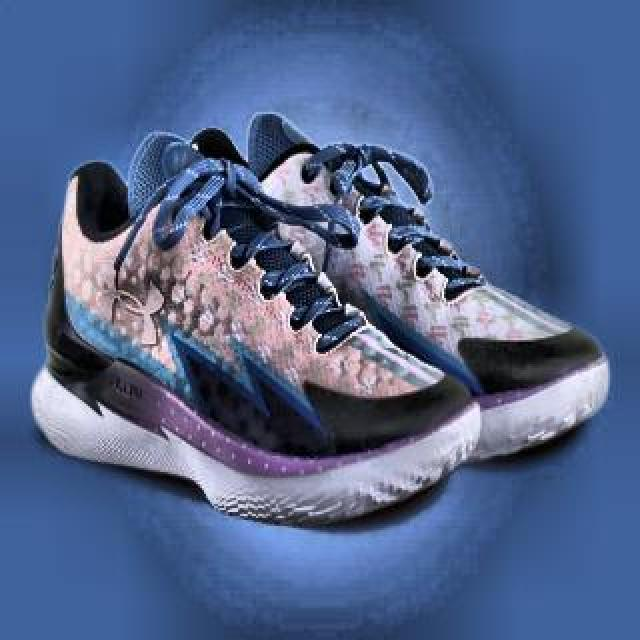shoes: (33, 129, 481, 525), (176, 111, 610, 471)
